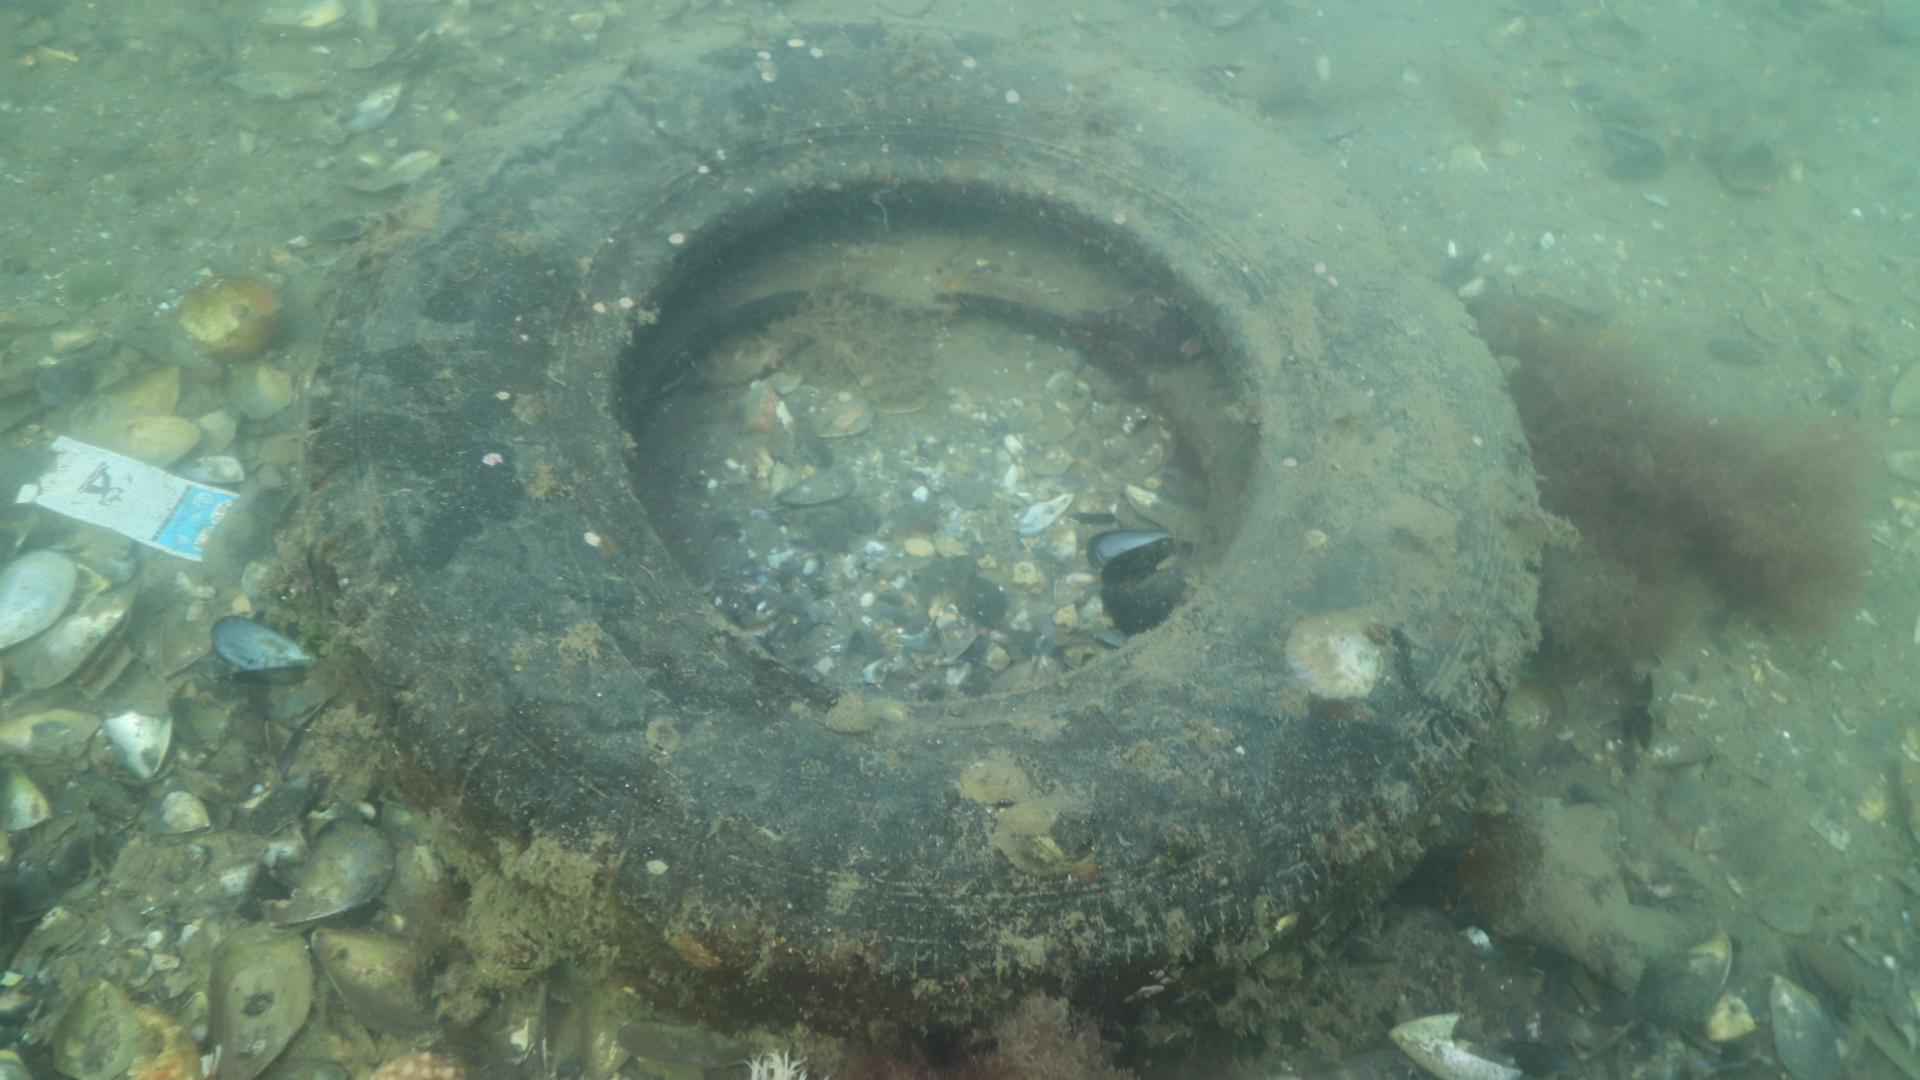tire: (305, 15, 1544, 1065)
